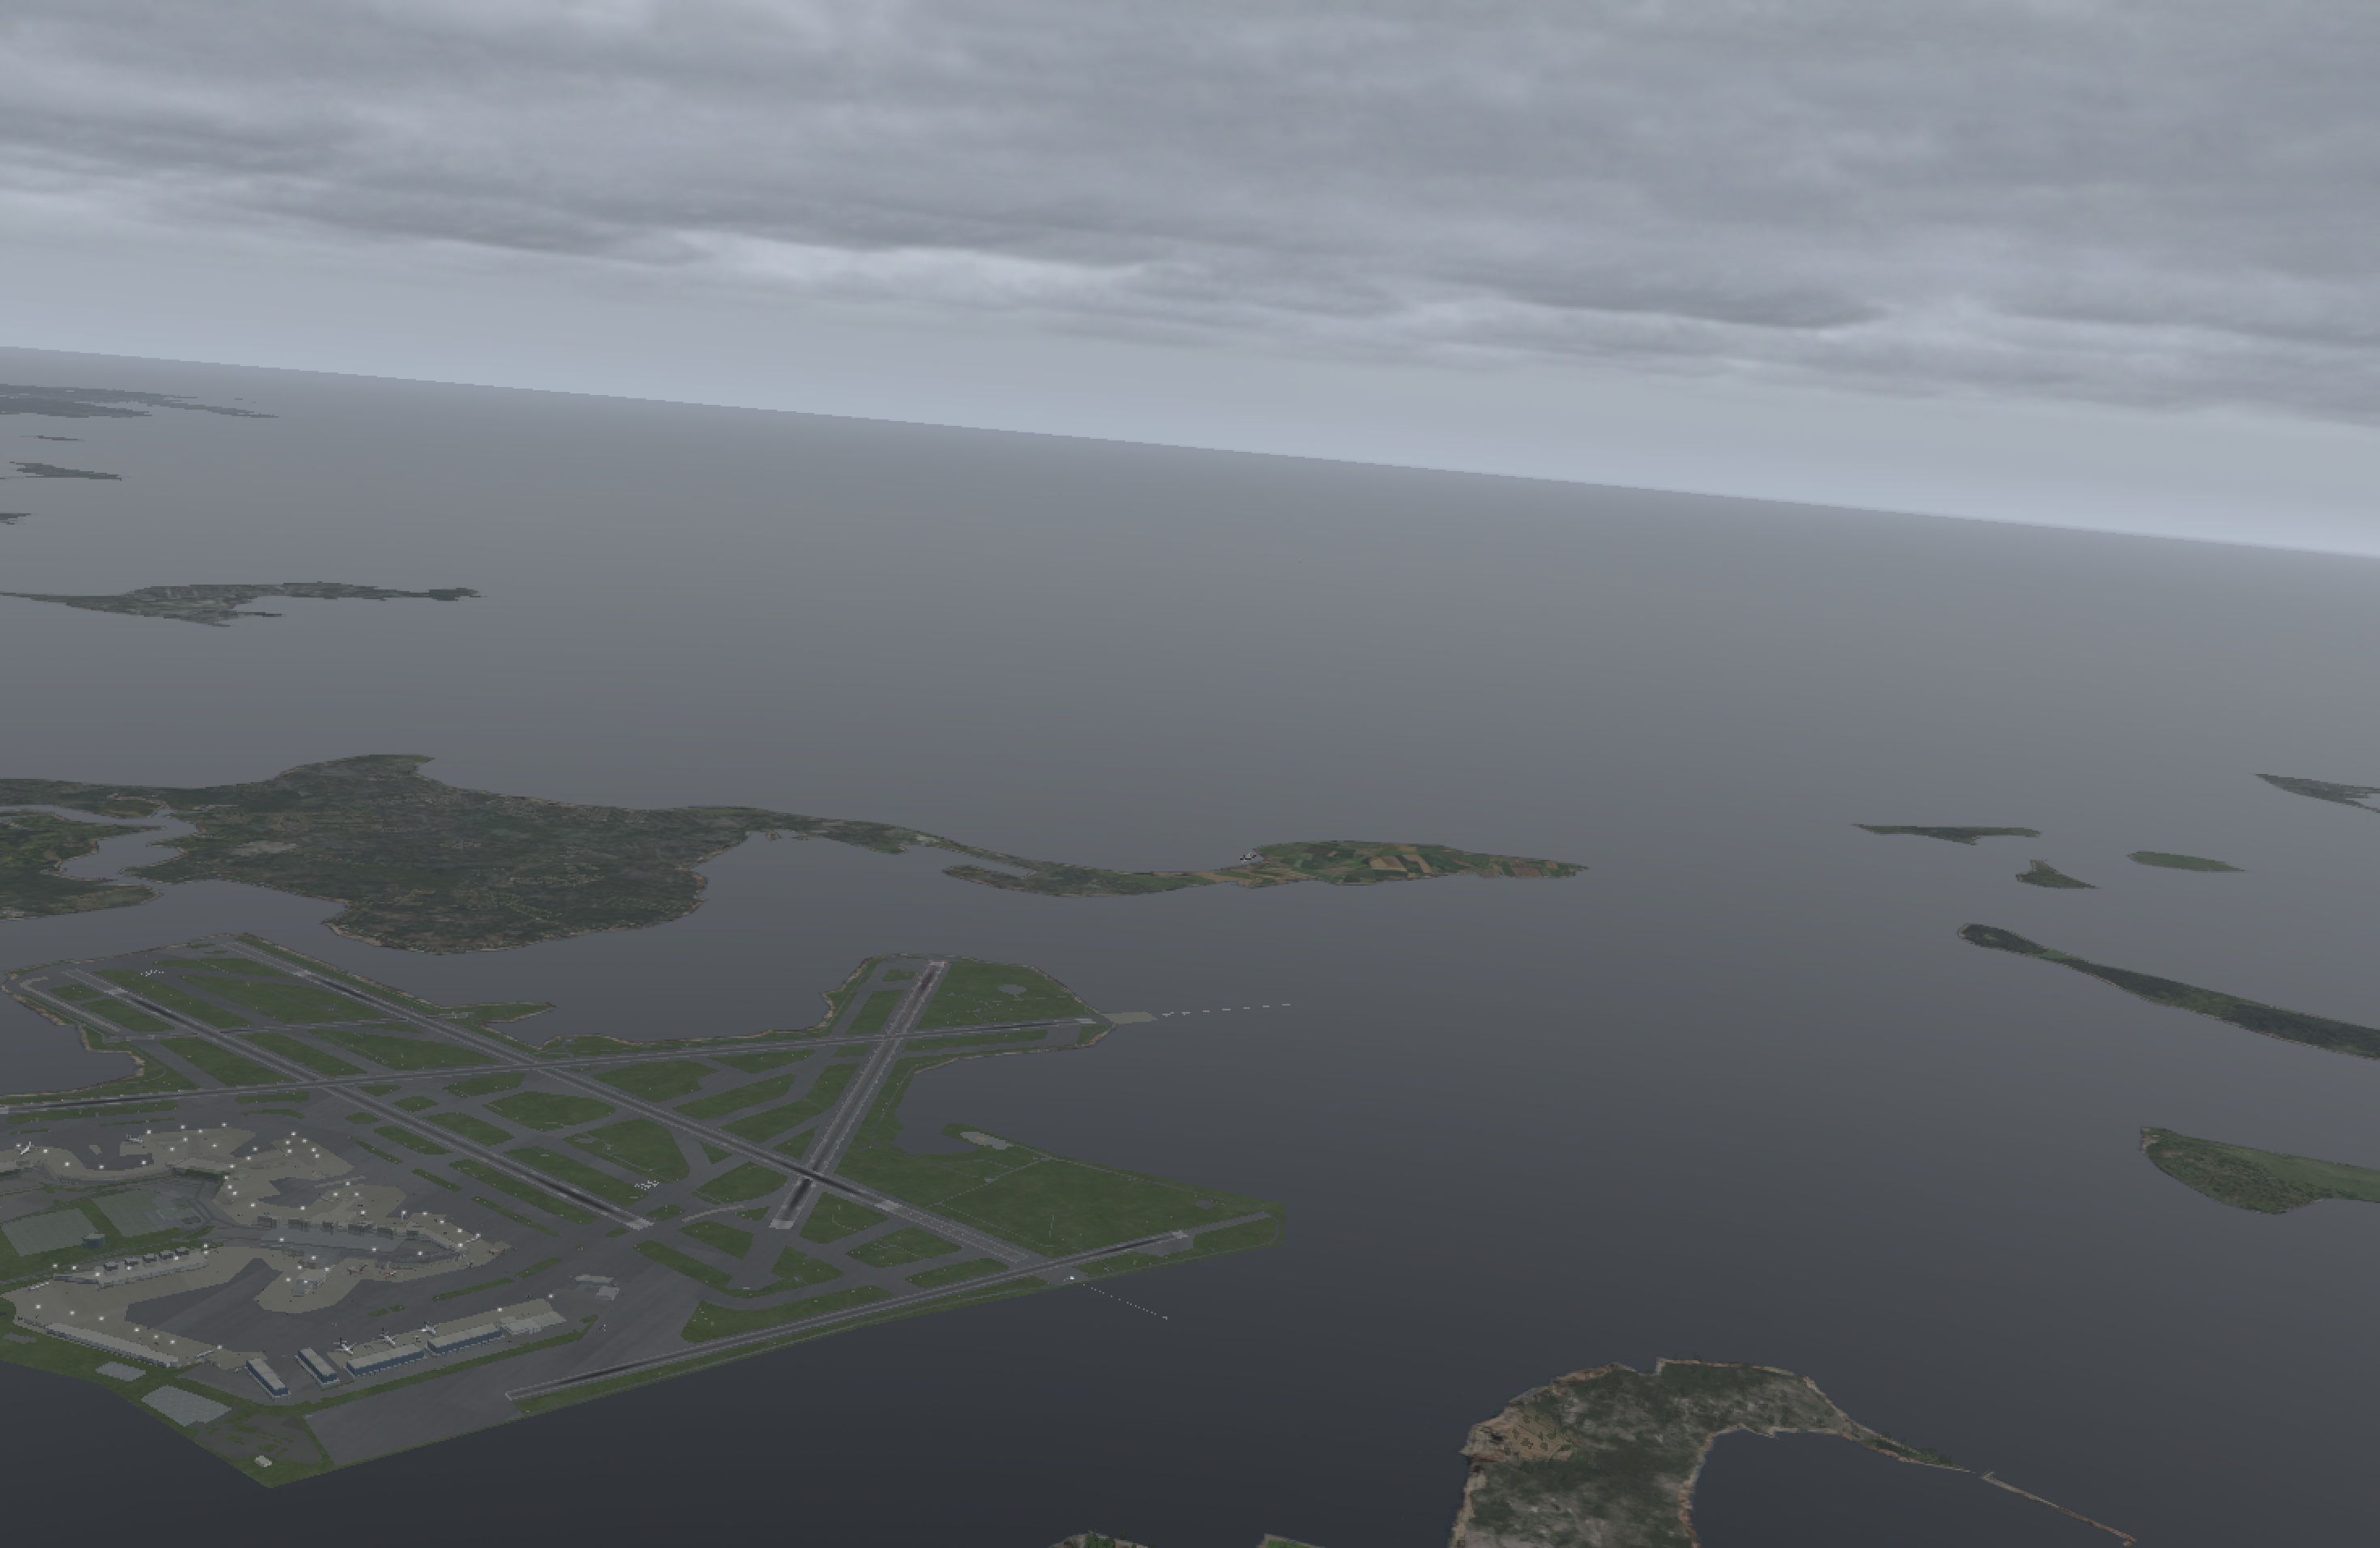aircraft: (1233, 854, 1259, 864)
